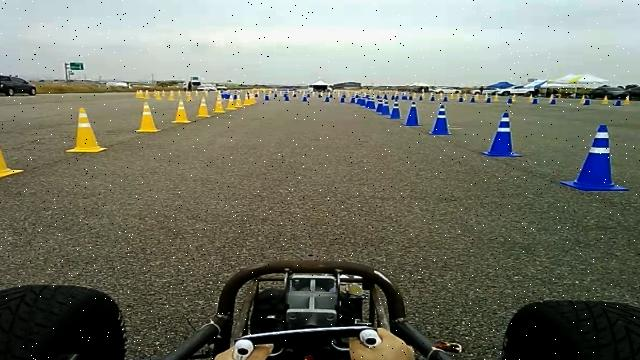blue cone: (560, 124, 629, 192), (481, 112, 523, 157), (430, 104, 452, 135), (403, 102, 423, 126), (389, 99, 402, 119)
yellow cone: (66, 107, 108, 153), (0, 115, 25, 178), (135, 101, 161, 132), (172, 99, 192, 123), (0, 115, 7, 172), (196, 97, 211, 117), (213, 96, 226, 113), (227, 95, 237, 110), (236, 95, 243, 107), (145, 90, 151, 98)
